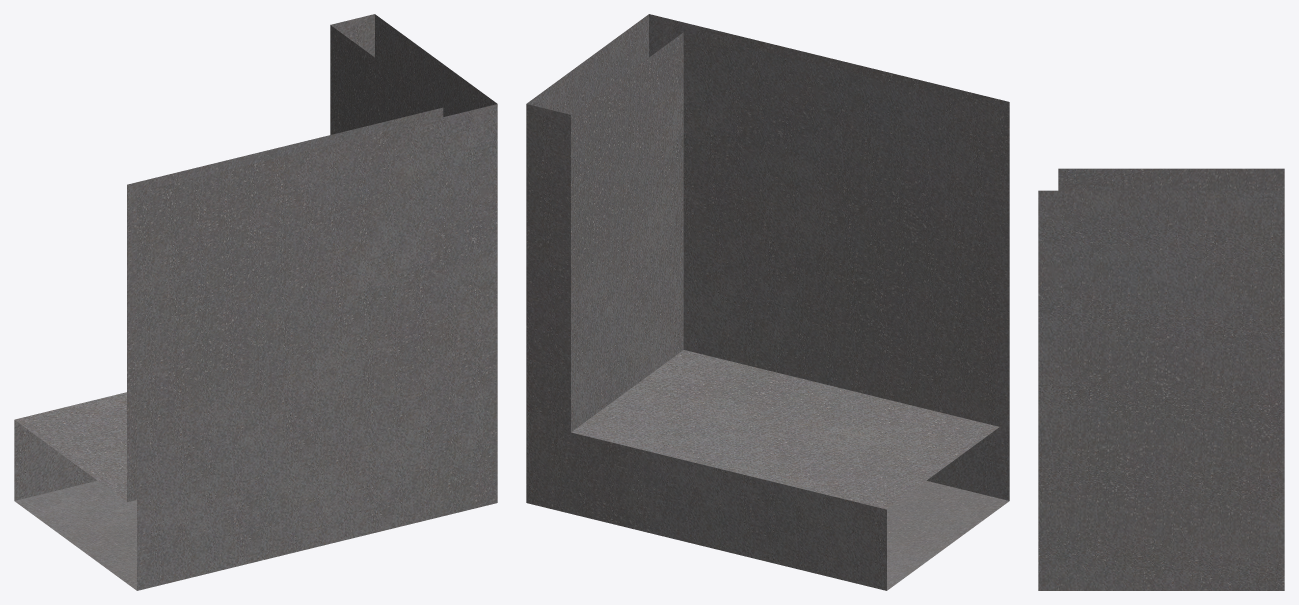
Rendered from Building1_StairCaseLevel.fbx.
3 renders of one model, left to right at view 1: azimuth 30°, elevation 25°; view 2: azimuth 150°, elevation 25°; view 3: azimuth 270°, elevation 25°, orthographic.
Visible parts, largest first — view 1: Building1_StairCaseLevel; view 2: Building1_StairCaseLevel; view 3: Building1_StairCaseLevel.
Part boxes in pixels (x1=…): Building1_StairCaseLevel: x1=14, y1=14, x2=497, y2=590; Building1_StairCaseLevel: x1=526, y1=14, x2=1009, y2=590; Building1_StairCaseLevel: x1=1038, y1=168, x2=1284, y2=590.
Bounding box in the file's own units: 519 × 549 × 306.
